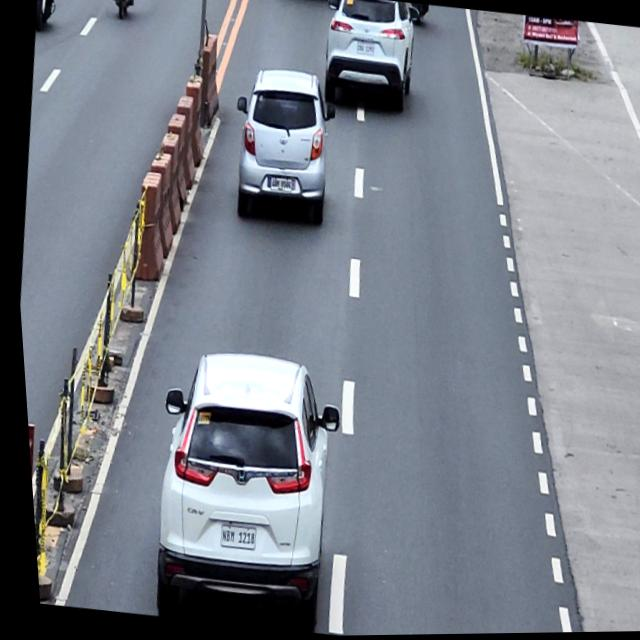Car: (130, 342, 352, 634), (219, 63, 344, 228), (314, 0, 420, 114)
License-Plate: (209, 521, 251, 551), (266, 177, 290, 194), (354, 42, 374, 57)
Motorcycle: (109, 0, 141, 21)
